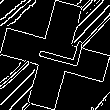L_W: (27, 34, 83, 76)
